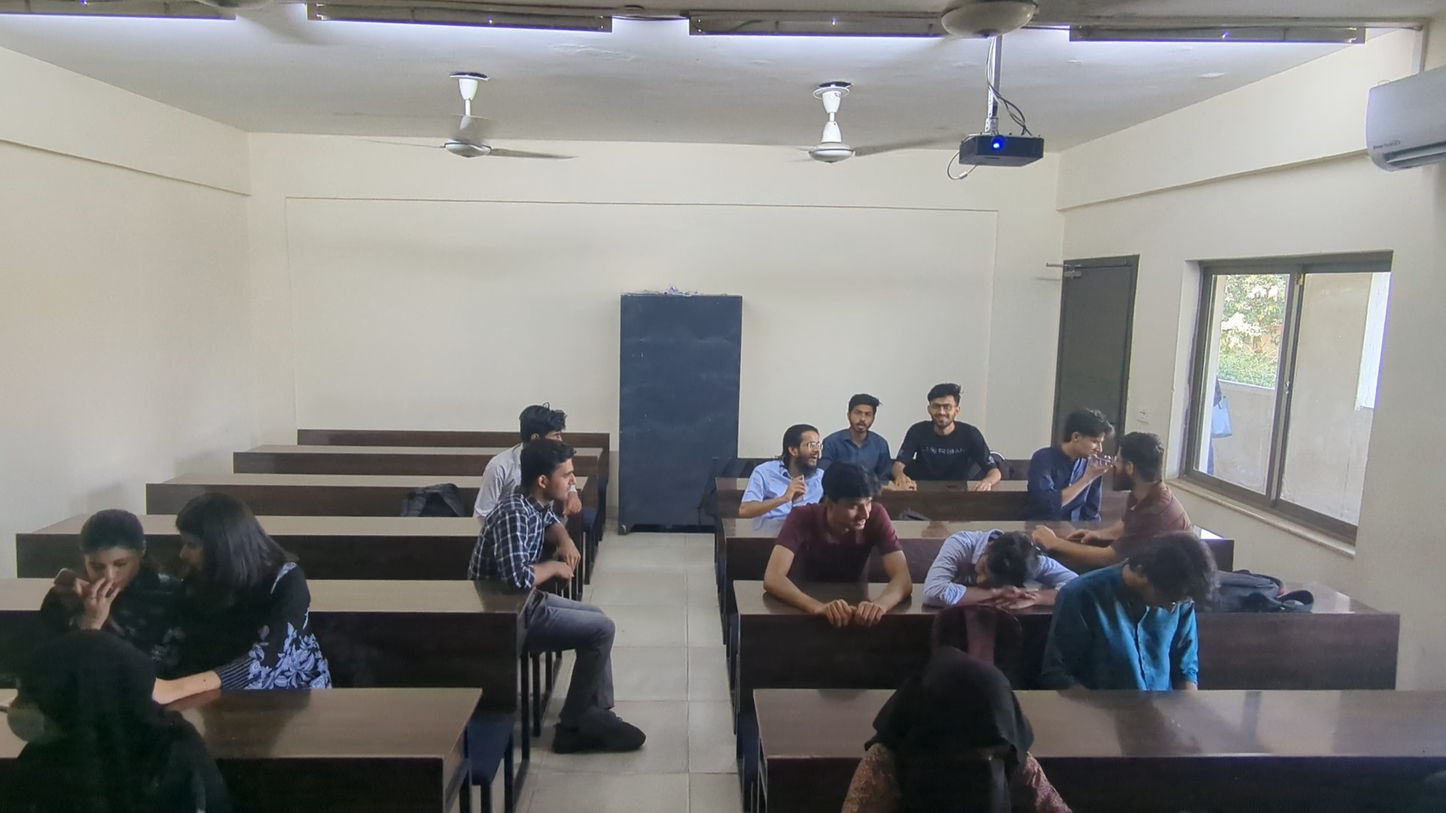look_forward: (894, 376, 997, 487), (827, 390, 896, 479)
sleep: (925, 531, 1086, 621)
turn_head: (8, 631, 219, 813), (167, 488, 336, 682), (764, 461, 913, 621), (473, 446, 600, 593), (1105, 433, 1194, 542), (762, 419, 830, 494), (505, 402, 585, 446)
using_device: (846, 660, 1072, 813), (1040, 524, 1211, 686), (41, 504, 159, 628), (1040, 403, 1117, 512)
